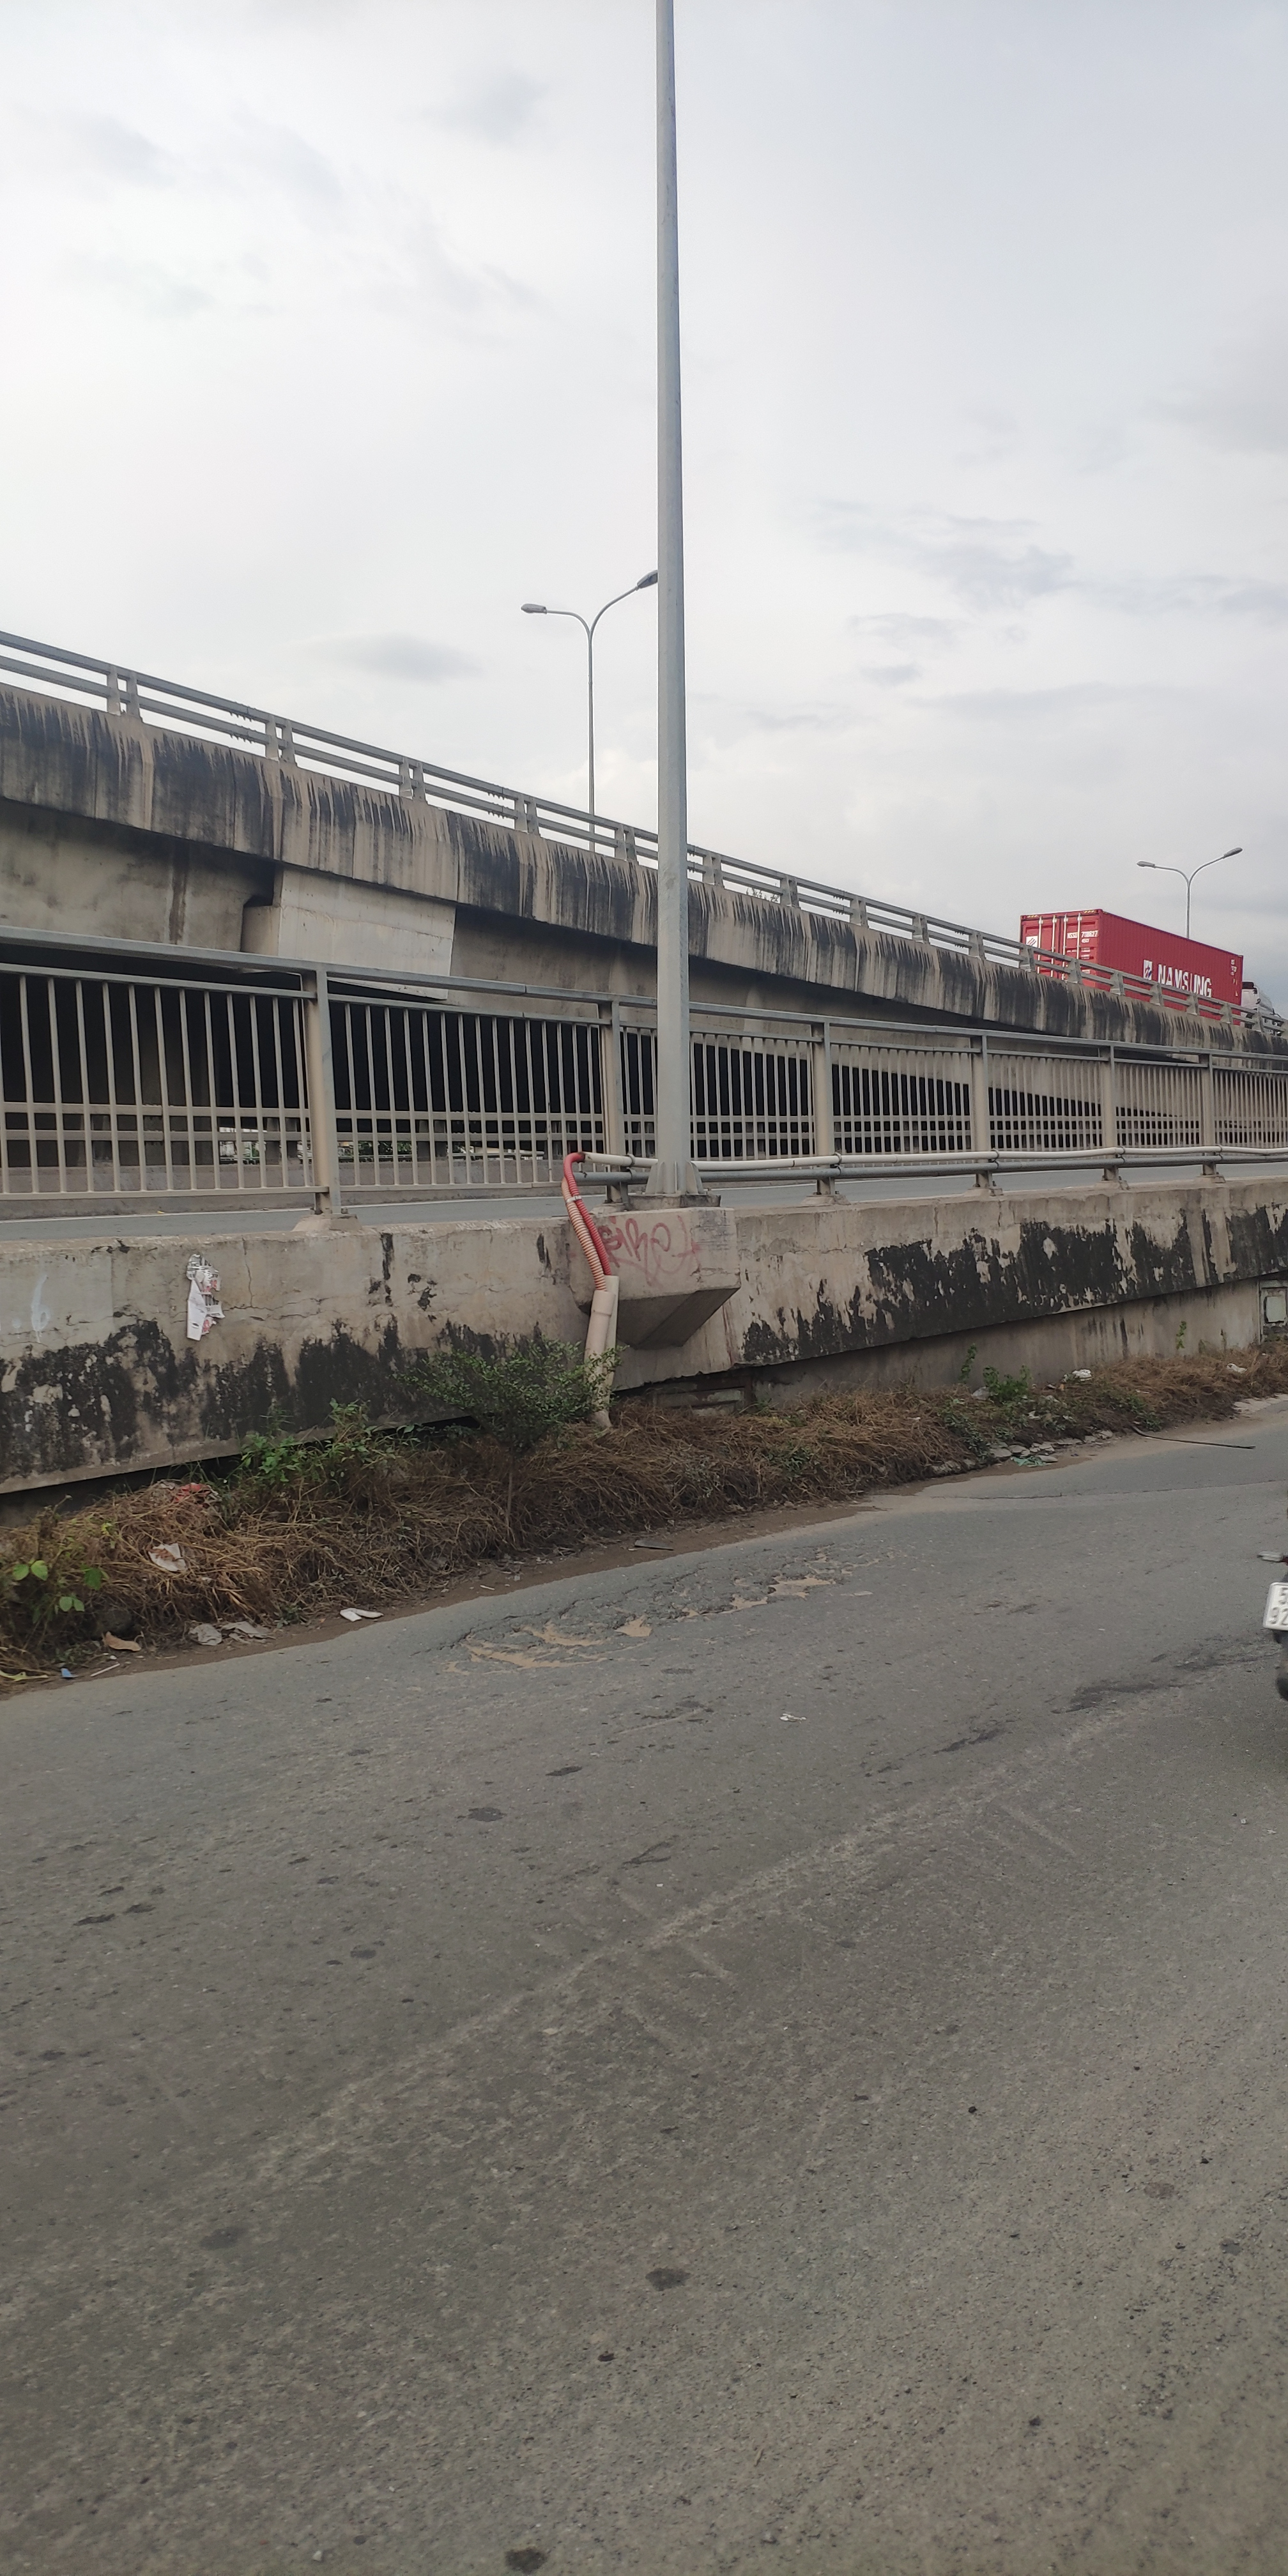hole: (442, 1528, 904, 1687)
